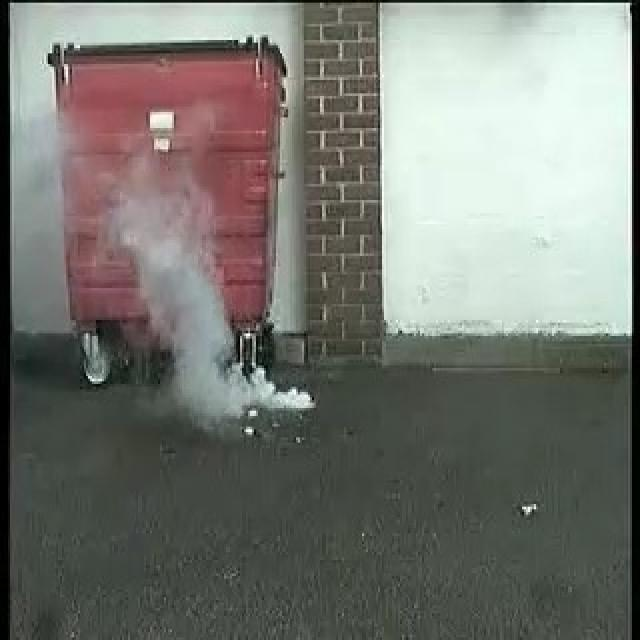smoke: (115, 194, 315, 418)
